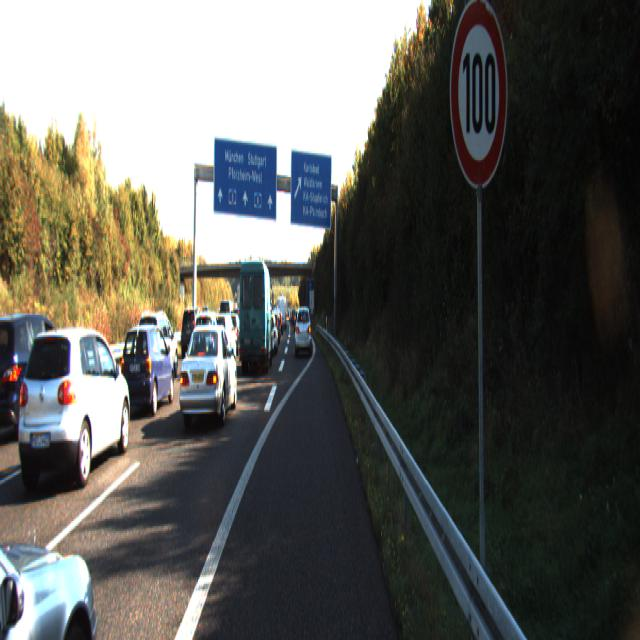Car: (0, 381, 114, 639), (14, 324, 136, 498), (0, 310, 79, 446), (177, 321, 238, 433), (120, 322, 177, 418), (238, 258, 272, 375), (134, 309, 179, 385), (294, 304, 312, 356), (262, 311, 278, 356)
